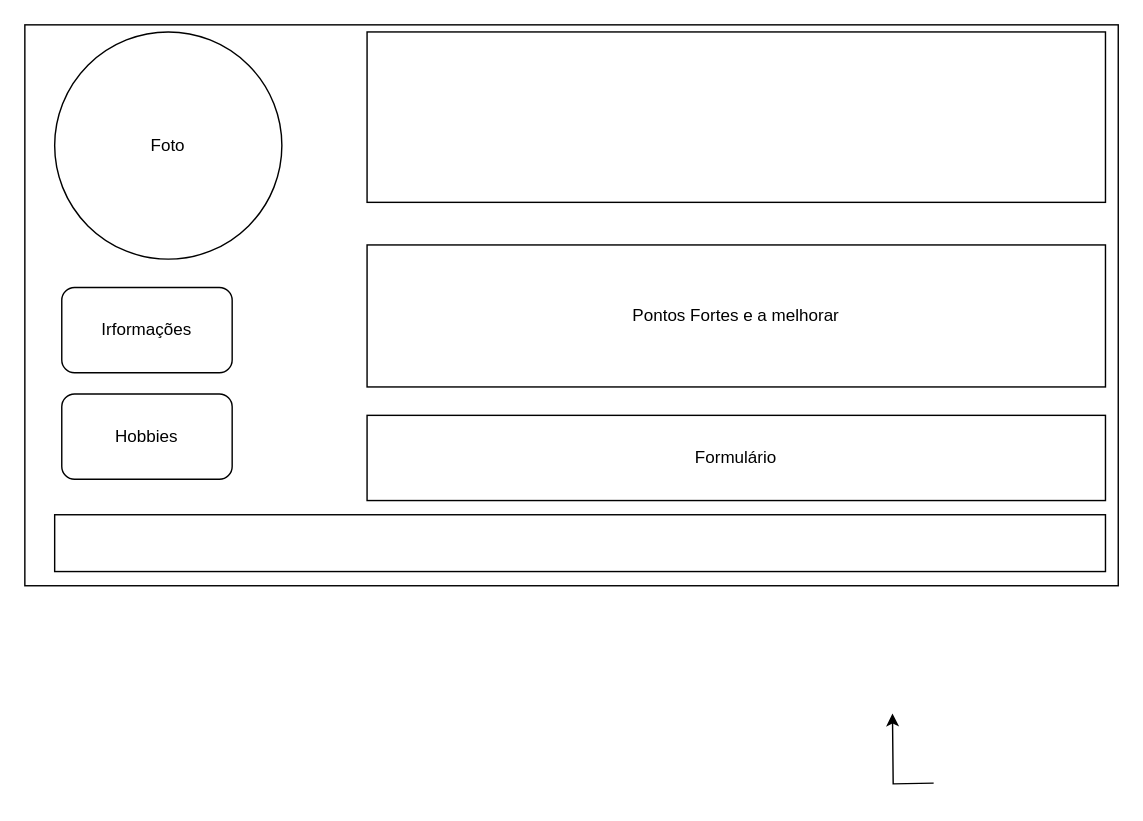
Image size: 1143x821. Some labels were removed from this diagram. The shapes that lost their labels are listed below. From the top down, each one's centre as x and y in pixels, then its label:
At (735,116): "Currículo".
At (579,542): "Redes sociais".
